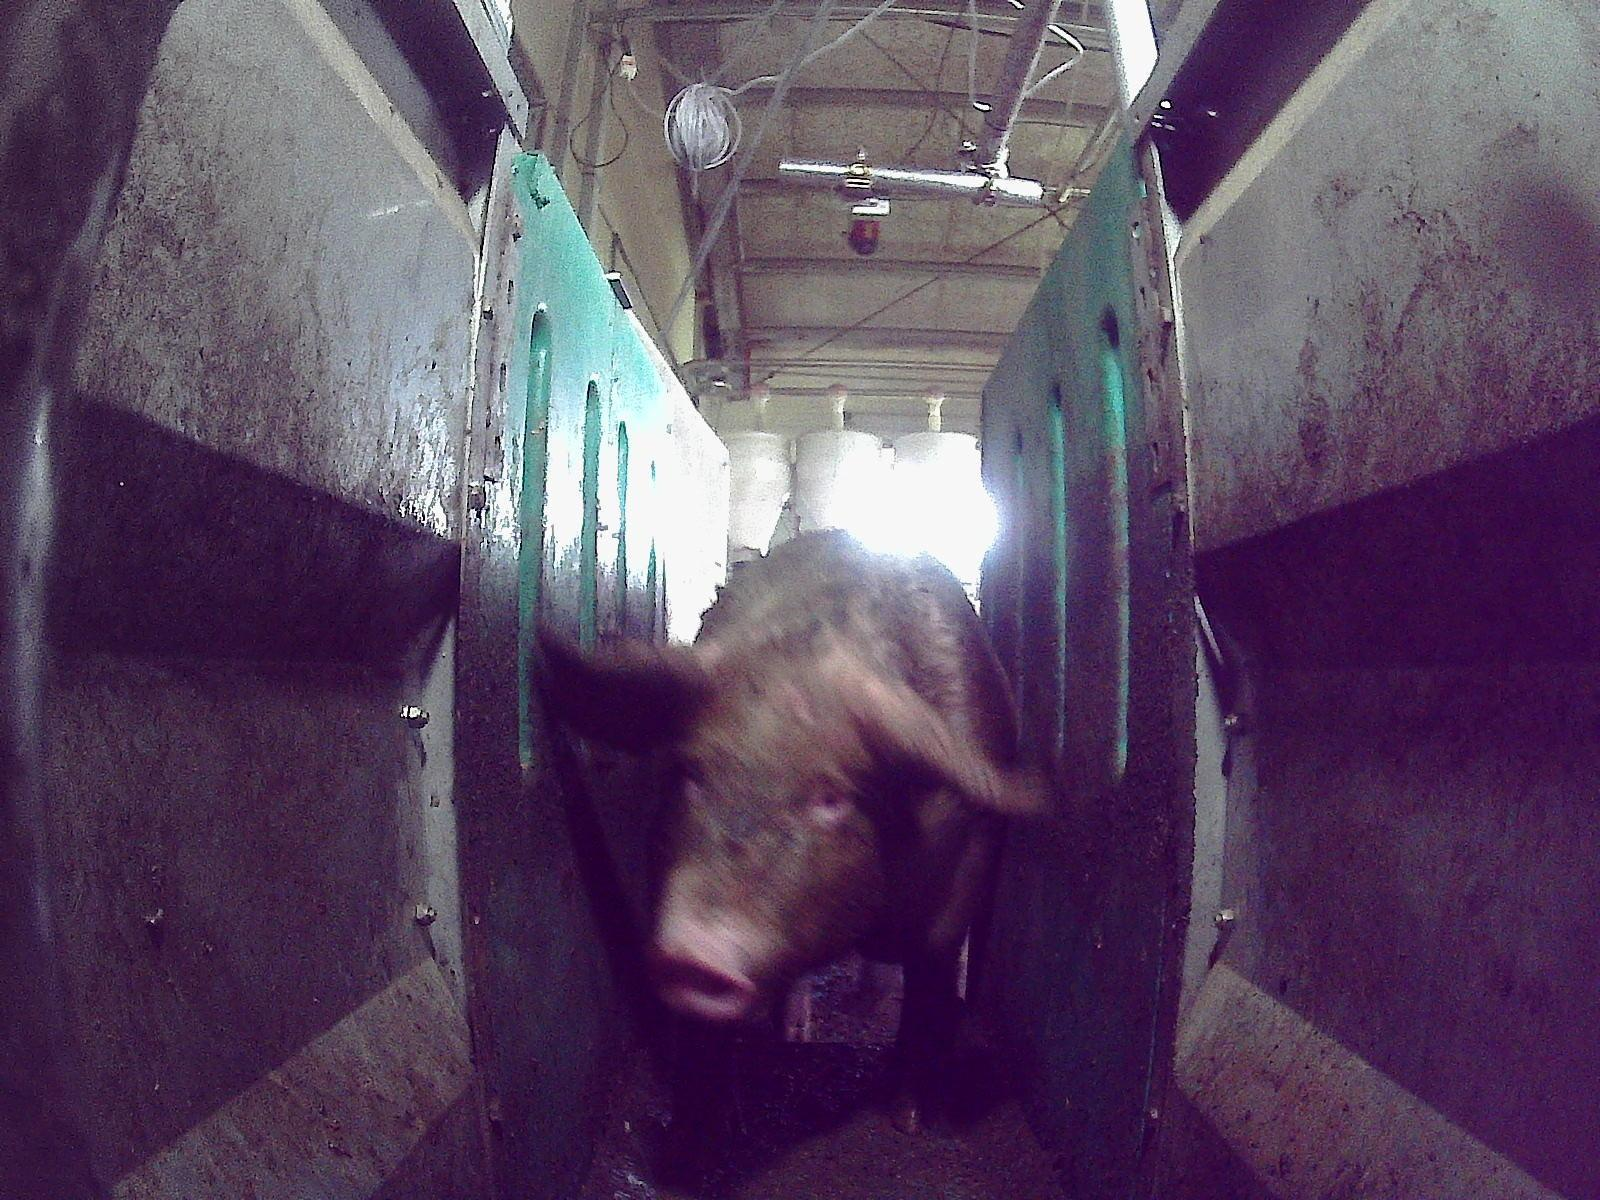Face: (648, 632, 897, 1030)
